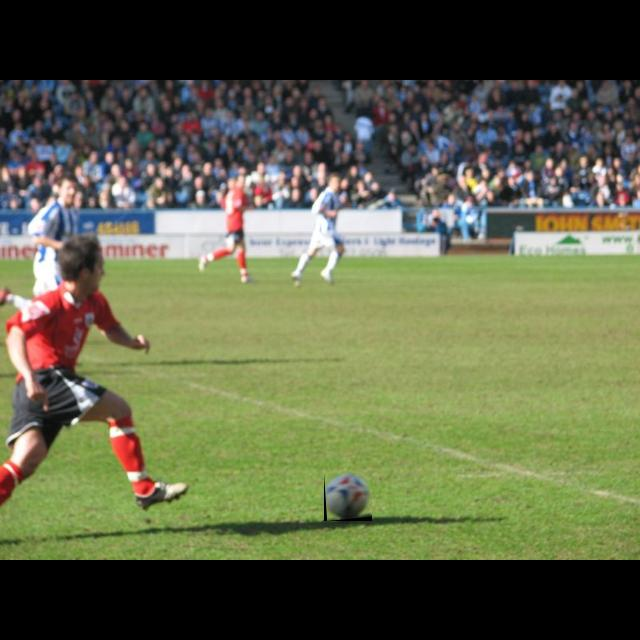Football: (324, 473, 372, 521)
